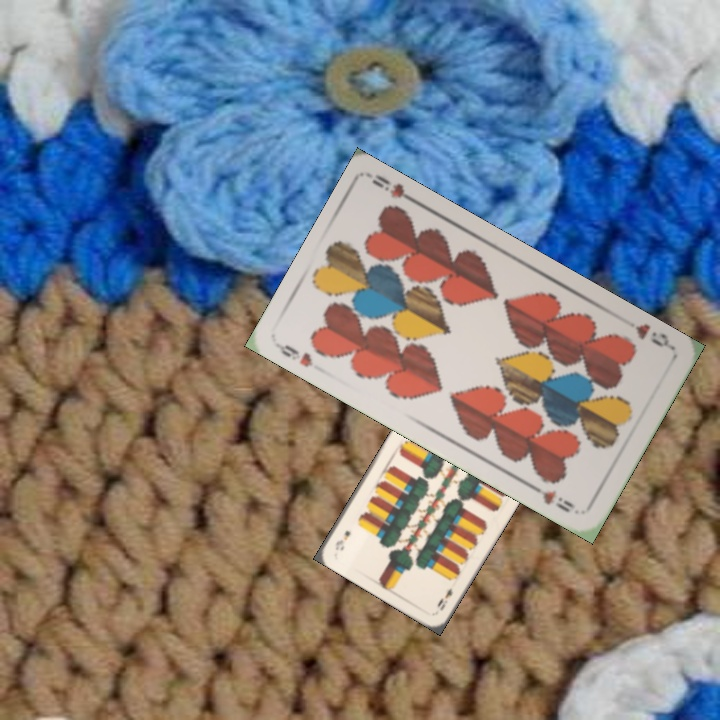E9: (433, 584, 455, 613)
H9: (631, 320, 675, 352), (273, 339, 316, 370)
